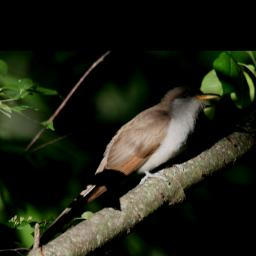Cuckoo: (31, 85, 222, 250)
